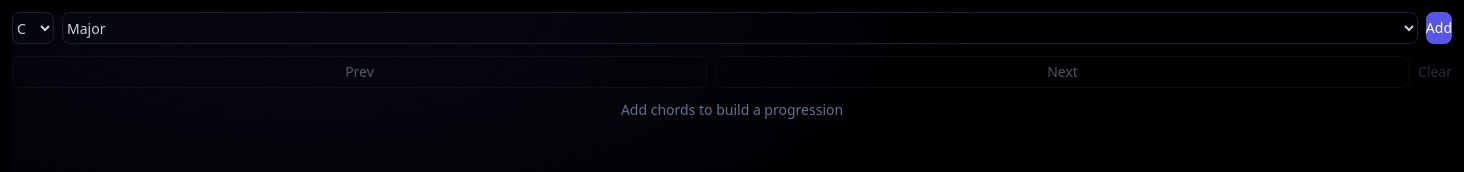
it: ProgressionBuilder › removes a chord
Select "C" in the dropdown named "Root note": {"x": 33, "y": 28} left=12, top=12, right=54, bottom=44
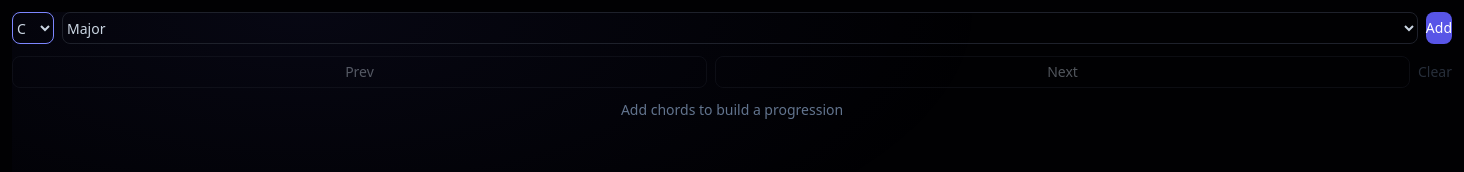
Select "Major" in the dropdown named "Chord quality": {"x": 740, "y": 28} left=62, top=12, right=1418, bottom=44
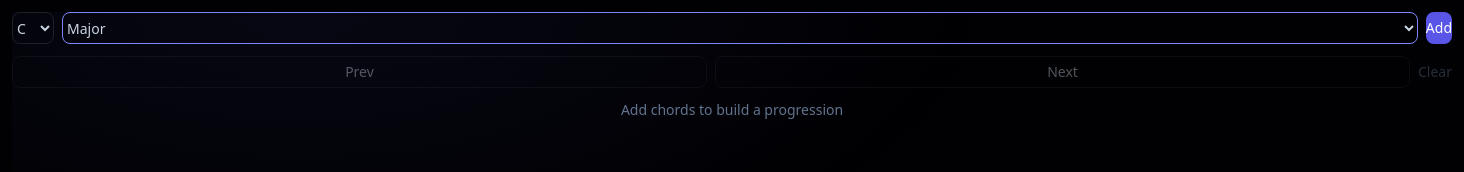
Click the button "Add": {"x": 1439, "y": 28} left=1426, top=12, right=1452, bottom=44
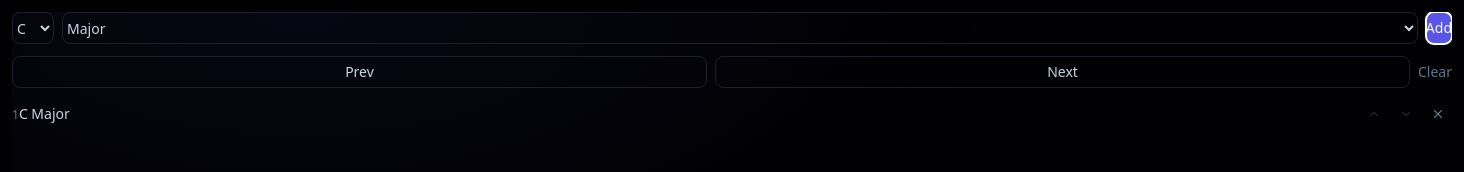
Click the button named "Remove C Major": {"x": 1438, "y": 114} left=1424, top=100, right=1452, bottom=128
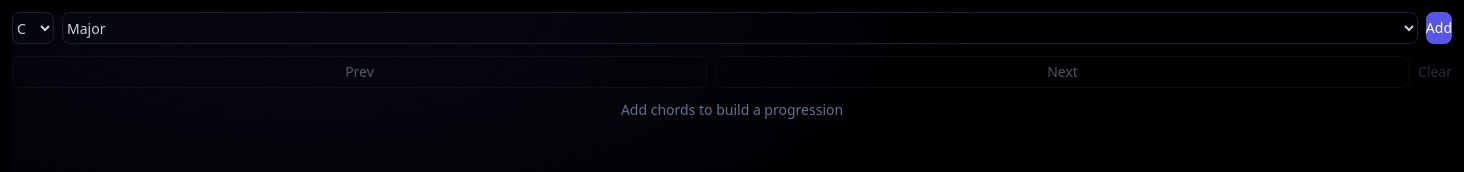
Result: the text "Add chords to build a progression" is shown at left=621, top=100, right=843, bottom=119
